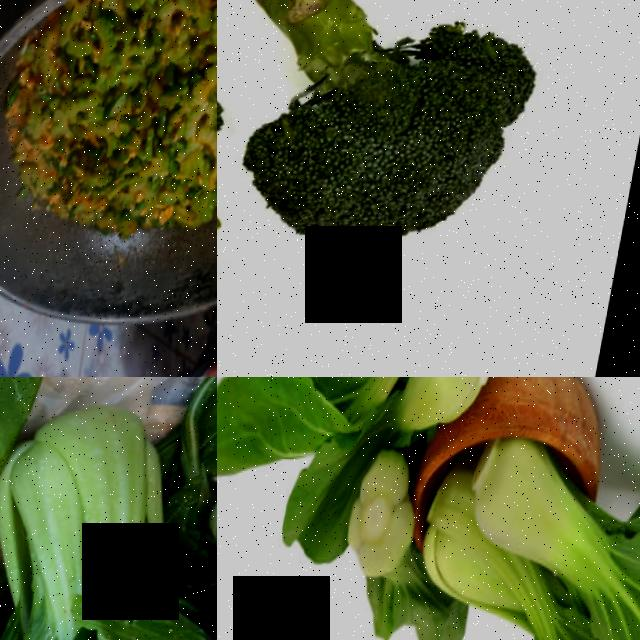bok choy: (0, 418, 205, 640), (475, 414, 640, 597), (302, 377, 531, 474), (341, 468, 425, 640), (434, 571, 640, 640)
broccoli: (269, 1, 590, 272), (217, 178, 273, 332)
